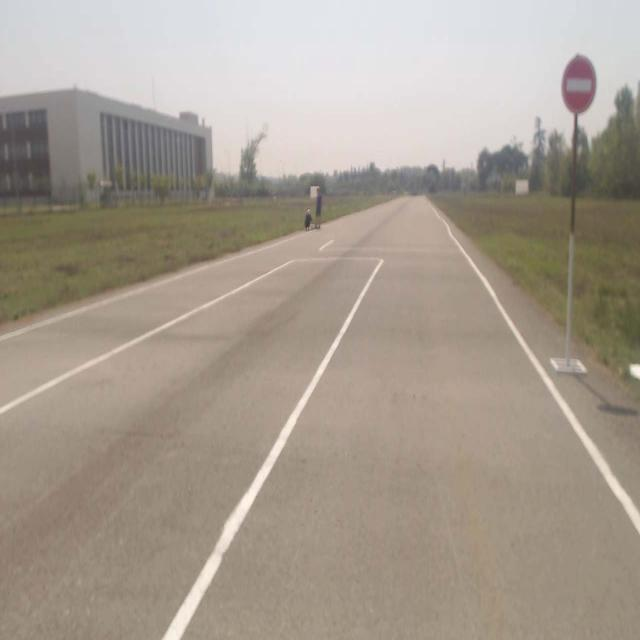girisyok: (560, 56, 596, 115)
